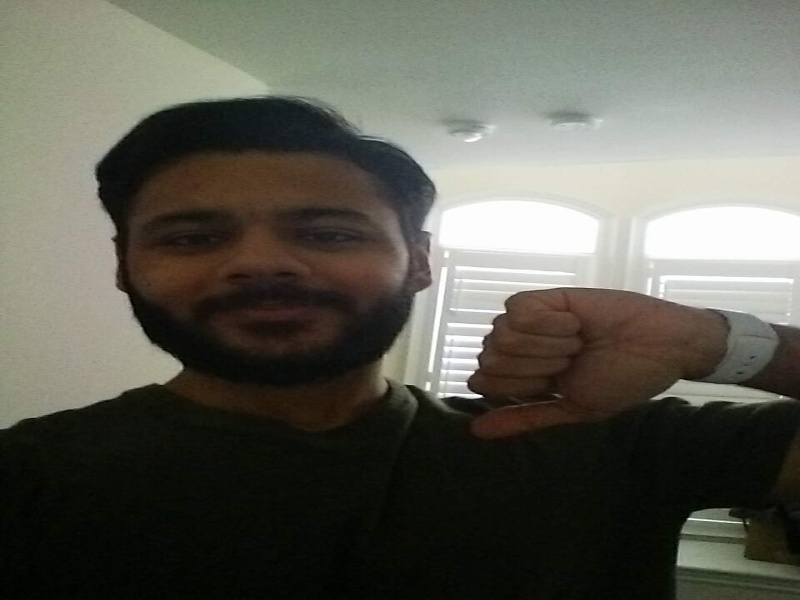smile: (120, 156, 407, 364)
